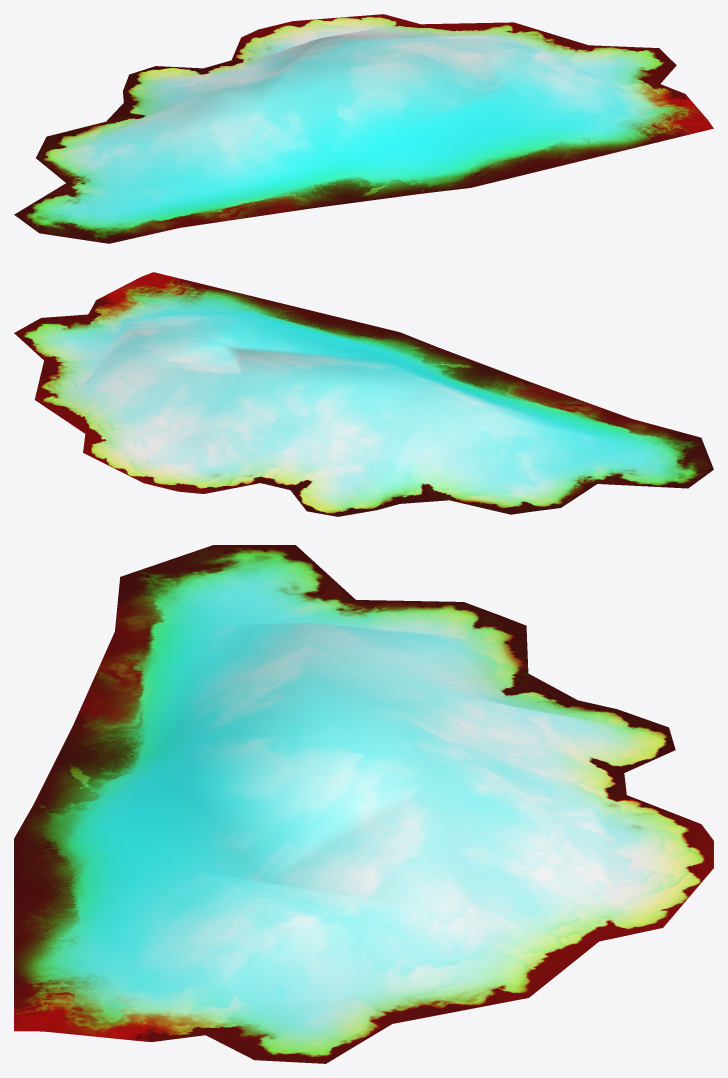
The model's file is Mesh_QuantumMetaCloud_1.FBX.
The picture shows the model from 3 angles, top to bottom: view 1: azimuth 30°, elevation 25°; view 2: azimuth 150°, elevation 25°; view 3: azimuth 270°, elevation 25°; orthographic projection. The views are drawn at different scales.
Parts seen in each view (by area): view 1: Mesh_QuantumMetaCloud_1; view 2: Mesh_QuantumMetaCloud_1; view 3: Mesh_QuantumMetaCloud_1.
Boxes of the visible parts, x1,y1,x2,y2 form: Mesh_QuantumMetaCloud_1: (14, 14, 713, 243); Mesh_QuantumMetaCloud_1: (14, 272, 713, 516); Mesh_QuantumMetaCloud_1: (14, 545, 713, 1063).
Size of the model in its own units: 877 by 500 by 59.71.
